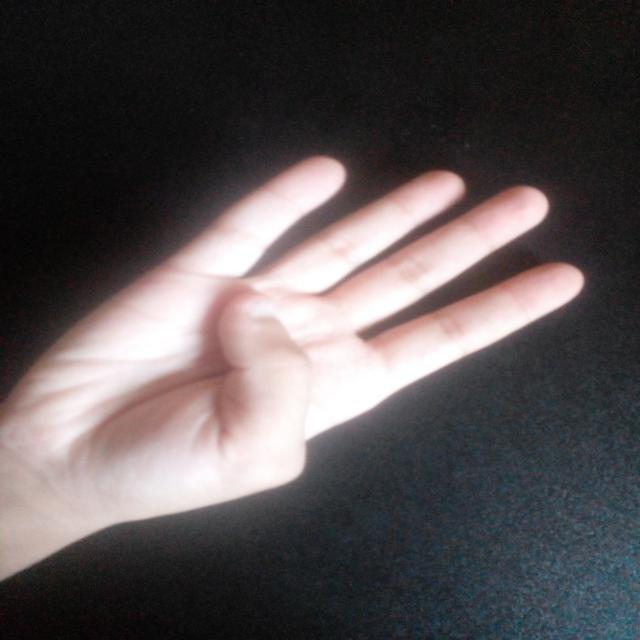Open Hand: (18, 93, 624, 621)
